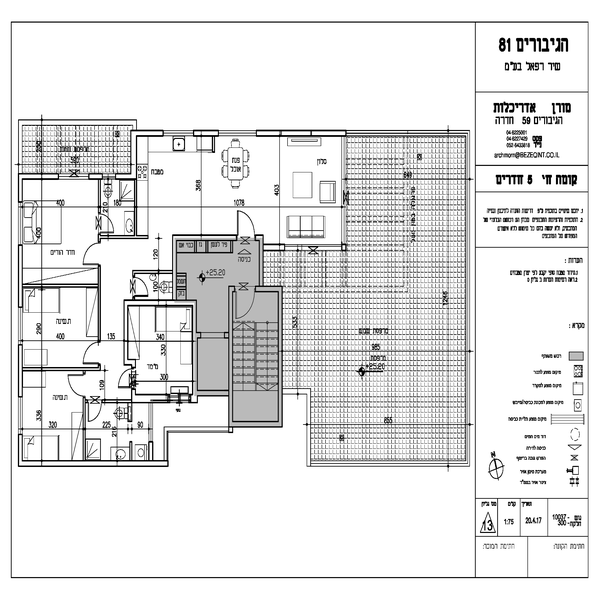door: (227, 206, 264, 241), (80, 337, 106, 369), (96, 204, 117, 237), (126, 273, 152, 298), (64, 373, 89, 398), (79, 242, 100, 271), (117, 368, 136, 390), (84, 404, 109, 420)
room: (131, 122, 265, 243), (11, 362, 173, 461), (268, 116, 351, 259), (10, 169, 103, 291), (118, 281, 200, 402), (14, 283, 102, 374)
wall: (269, 282, 290, 430), (14, 454, 168, 474), (227, 280, 237, 428), (117, 300, 136, 364), (10, 345, 31, 396), (253, 127, 348, 138), (189, 310, 200, 404), (229, 416, 285, 431), (125, 132, 141, 181), (118, 300, 198, 309), (17, 244, 27, 306), (12, 174, 61, 186), (255, 285, 286, 299), (15, 435, 27, 469), (192, 127, 220, 141)
window: (58, 166, 93, 190), (218, 123, 256, 145), (163, 123, 192, 144), (17, 202, 30, 246)
